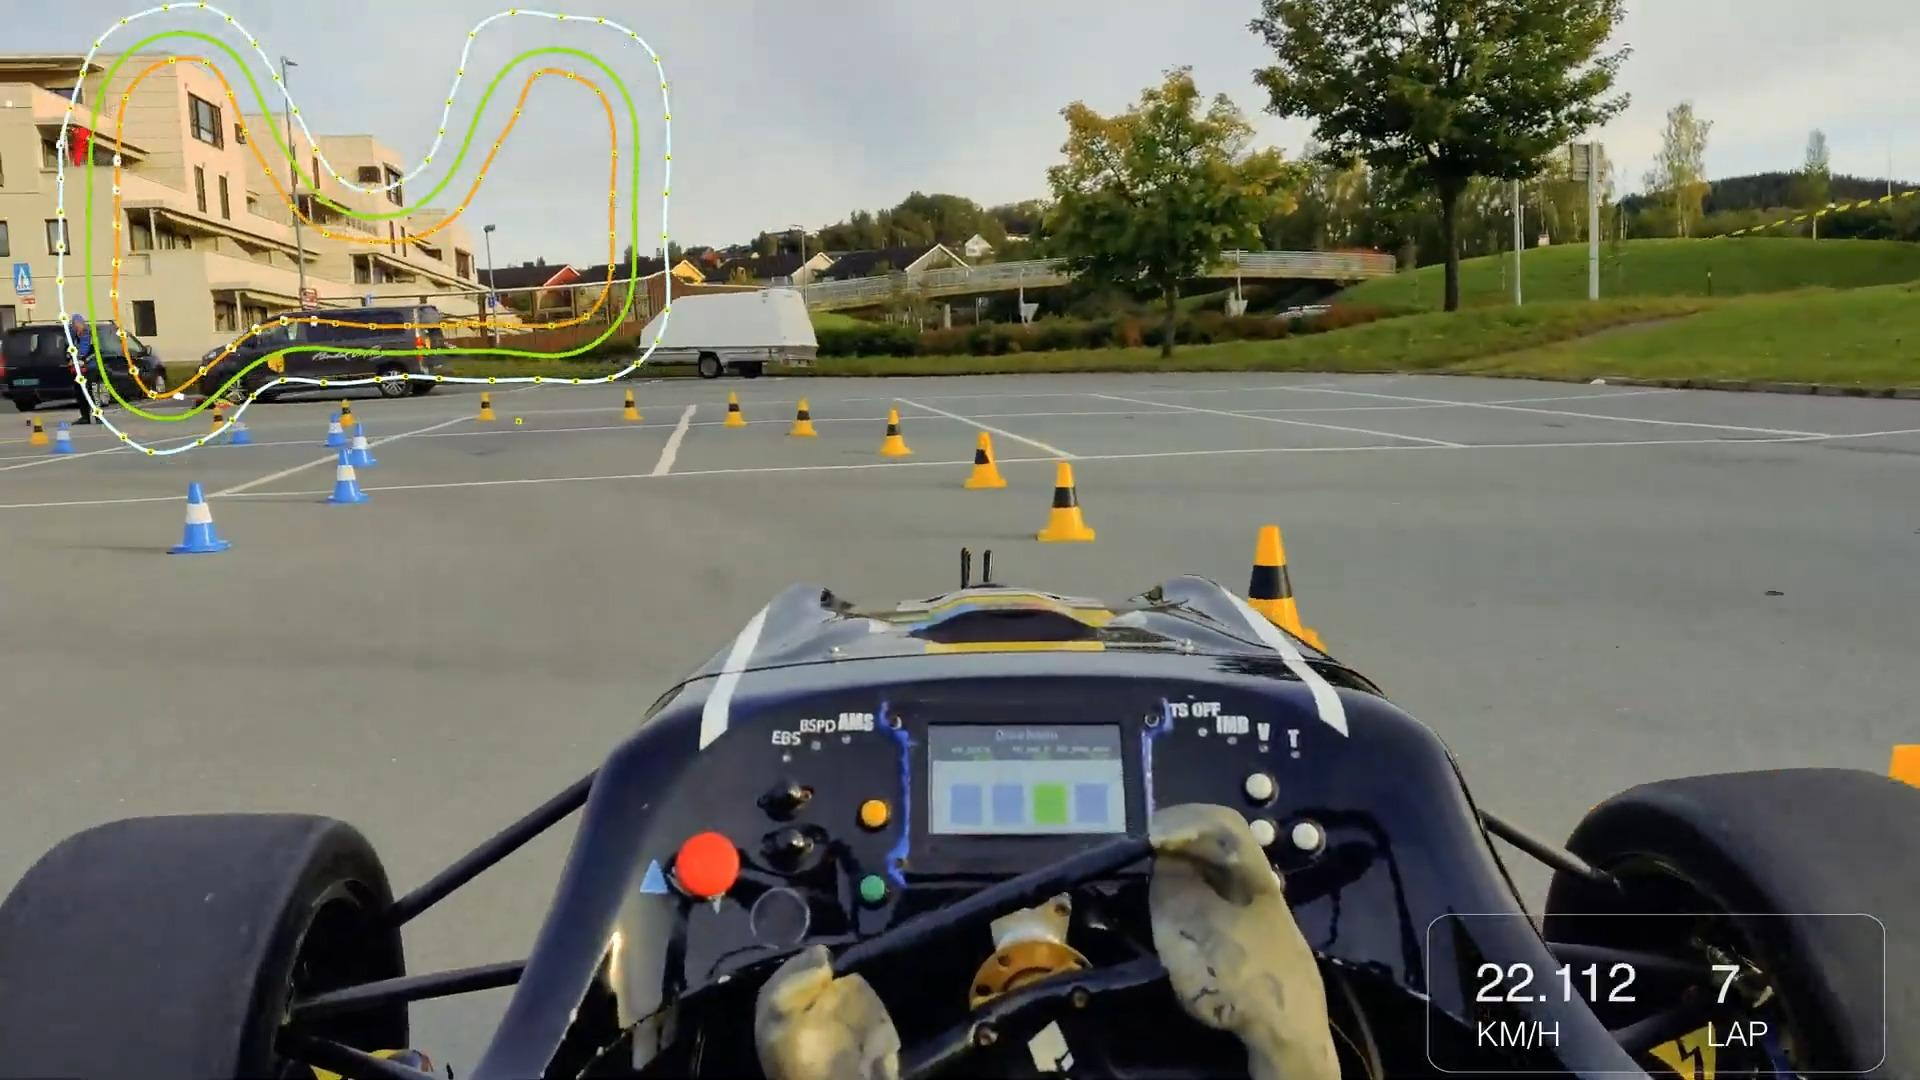blue_cone: (160, 476, 237, 559), (324, 448, 376, 510), (347, 421, 385, 469), (316, 409, 349, 448), (49, 417, 76, 458), (227, 413, 255, 450)
yellow_cone: (1216, 508, 1338, 704), (1031, 455, 1105, 549), (955, 426, 1018, 493), (1887, 707, 1920, 818), (874, 406, 914, 463), (783, 396, 823, 439), (721, 389, 749, 430), (618, 385, 644, 425), (473, 389, 498, 426), (336, 396, 359, 430), (29, 410, 47, 451), (208, 404, 229, 436)
